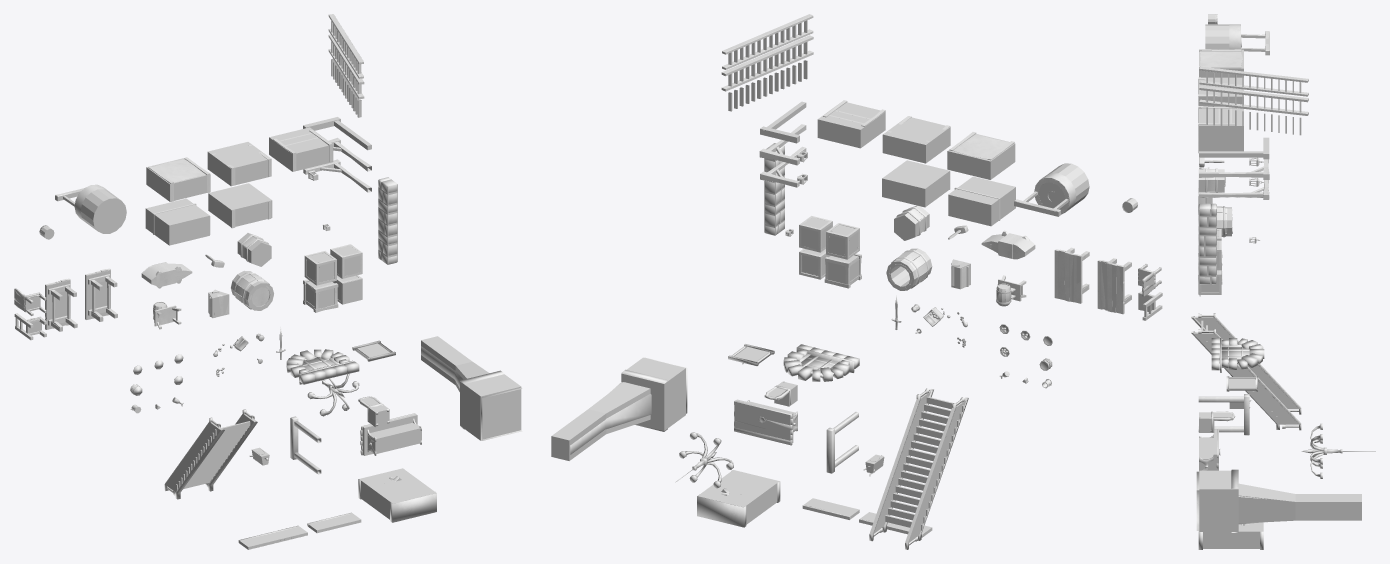
Rendered from furniture.dae.
3 views of the same model, side by side, from view 1: azimuth 30°, elevation 25°; view 2: azimuth 150°, elevation 25°; view 3: azimuth 270°, elevation 25° (orthographic). The views are drawn at different scales.
Visible parts, largest first — view 1: PHYSICS_furnace, PHYSICS_stair, PHYSICS_cabinet_2, PHYSICS_shelf_3, PHYSICS_bookshelve, PHYSICS_shelf_2, PHYSICS_shelf_1, window, PHYSICS_well, PHYSICS_table, wall, PHYSICS_cabinet_1 (+19 smaller); view 2: PHYSICS_stair, PHYSICS_furnace, PHYSICS_cabinet_2, PHYSICS_shelf_3, PHYSICS_shelf_2, PHYSICS_bookshelve, PHYSICS_shelf_1, window, PHYSICS_table, PHYSICS_well, LOD:1_ladder, ladder (+14 smaller); view 3: PHYSICS_furnace, PHYSICS_stair, window, PHYSICS_shelf_1, wall, LOD:1_ladder, ladder, PHYSICS_bookshelve, PHYSICS_well, cabinet_1, door, PHYSICS_shelf_2 (+18 smaller).
Part boxes in pixels (left/top/right/bottom): PHYSICS_furnace: left=421, top=336, right=521, bottom=440; PHYSICS_stair: left=165, top=414, right=256, bottom=491; PHYSICS_cabinet_2: left=145, top=198, right=209, bottom=245; PHYSICS_shelf_3: left=208, top=183, right=272, bottom=227; PHYSICS_bookshelve: left=359, top=468, right=436, bottom=519; PHYSICS_shelf_2: left=207, top=142, right=271, bottom=186; PHYSICS_shelf_1: left=269, top=127, right=333, bottom=171; window: left=286, top=349, right=359, bottom=384; PHYSICS_well: left=55, top=184, right=126, bottom=233; PHYSICS_table: left=362, top=413, right=421, bottom=455; wall: left=378, top=177, right=397, bottom=264; PHYSICS_cabinet_1: left=146, top=157, right=210, bottom=201; PHYSICS_stair: left=869, top=389, right=966, bottom=543; PHYSICS_furnace: left=551, top=357, right=685, bottom=460; PHYSICS_cabinet_2: left=948, top=176, right=1015, bottom=226; PHYSICS_shelf_3: left=882, top=160, right=949, bottom=207; PHYSICS_shelf_2: left=882, top=116, right=950, bottom=163; PHYSICS_bookshelve: left=697, top=470, right=779, bottom=524; PHYSICS_shelf_1: left=817, top=102, right=885, bottom=148; window: left=783, top=344, right=859, bottom=381; PHYSICS_table: left=734, top=399, right=797, bottom=444; PHYSICS_well: left=1014, top=163, right=1089, bottom=216; LOD:1_ladder: left=721, top=35, right=813, bottom=91; ladder: left=722, top=14, right=813, bottom=69; PHYSICS_furnace: left=1199, top=470, right=1361, bottom=531; PHYSICS_stair: left=1193, top=316, right=1301, bottom=424; window: left=1211, top=338, right=1264, bottom=372; PHYSICS_shelf_1: left=1199, top=108, right=1243, bottom=142; wall: left=1198, top=203, right=1216, bottom=284; LOD:1_ladder: left=1199, top=86, right=1308, bottom=115; ladder: left=1199, top=66, right=1308, bottom=96; PHYSICS_bookshelve: left=1198, top=522, right=1263, bottom=548; PHYSICS_well: left=1205, top=24, right=1269, bottom=55; cabinet_1: left=1199, top=49, right=1242, bottom=68; door: left=1198, top=394, right=1249, bottom=435; PHYSICS_shelf_2: left=1199, top=77, right=1243, bottom=106.
Bounding box in the file's own units: 24.2 × 8.22 × 21.97.
